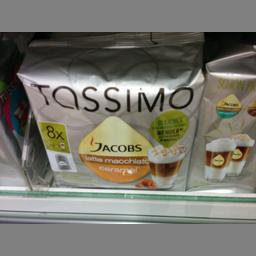coffee: (16, 31, 208, 186), (191, 41, 255, 190)
